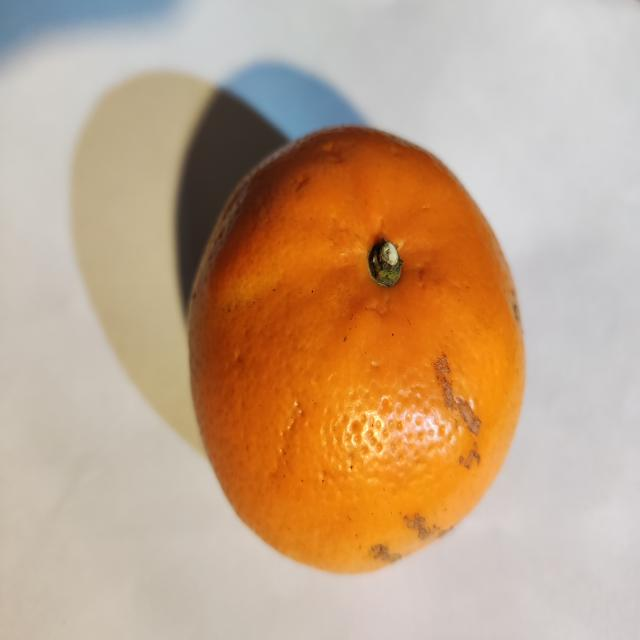orange: (190, 128, 524, 572)
